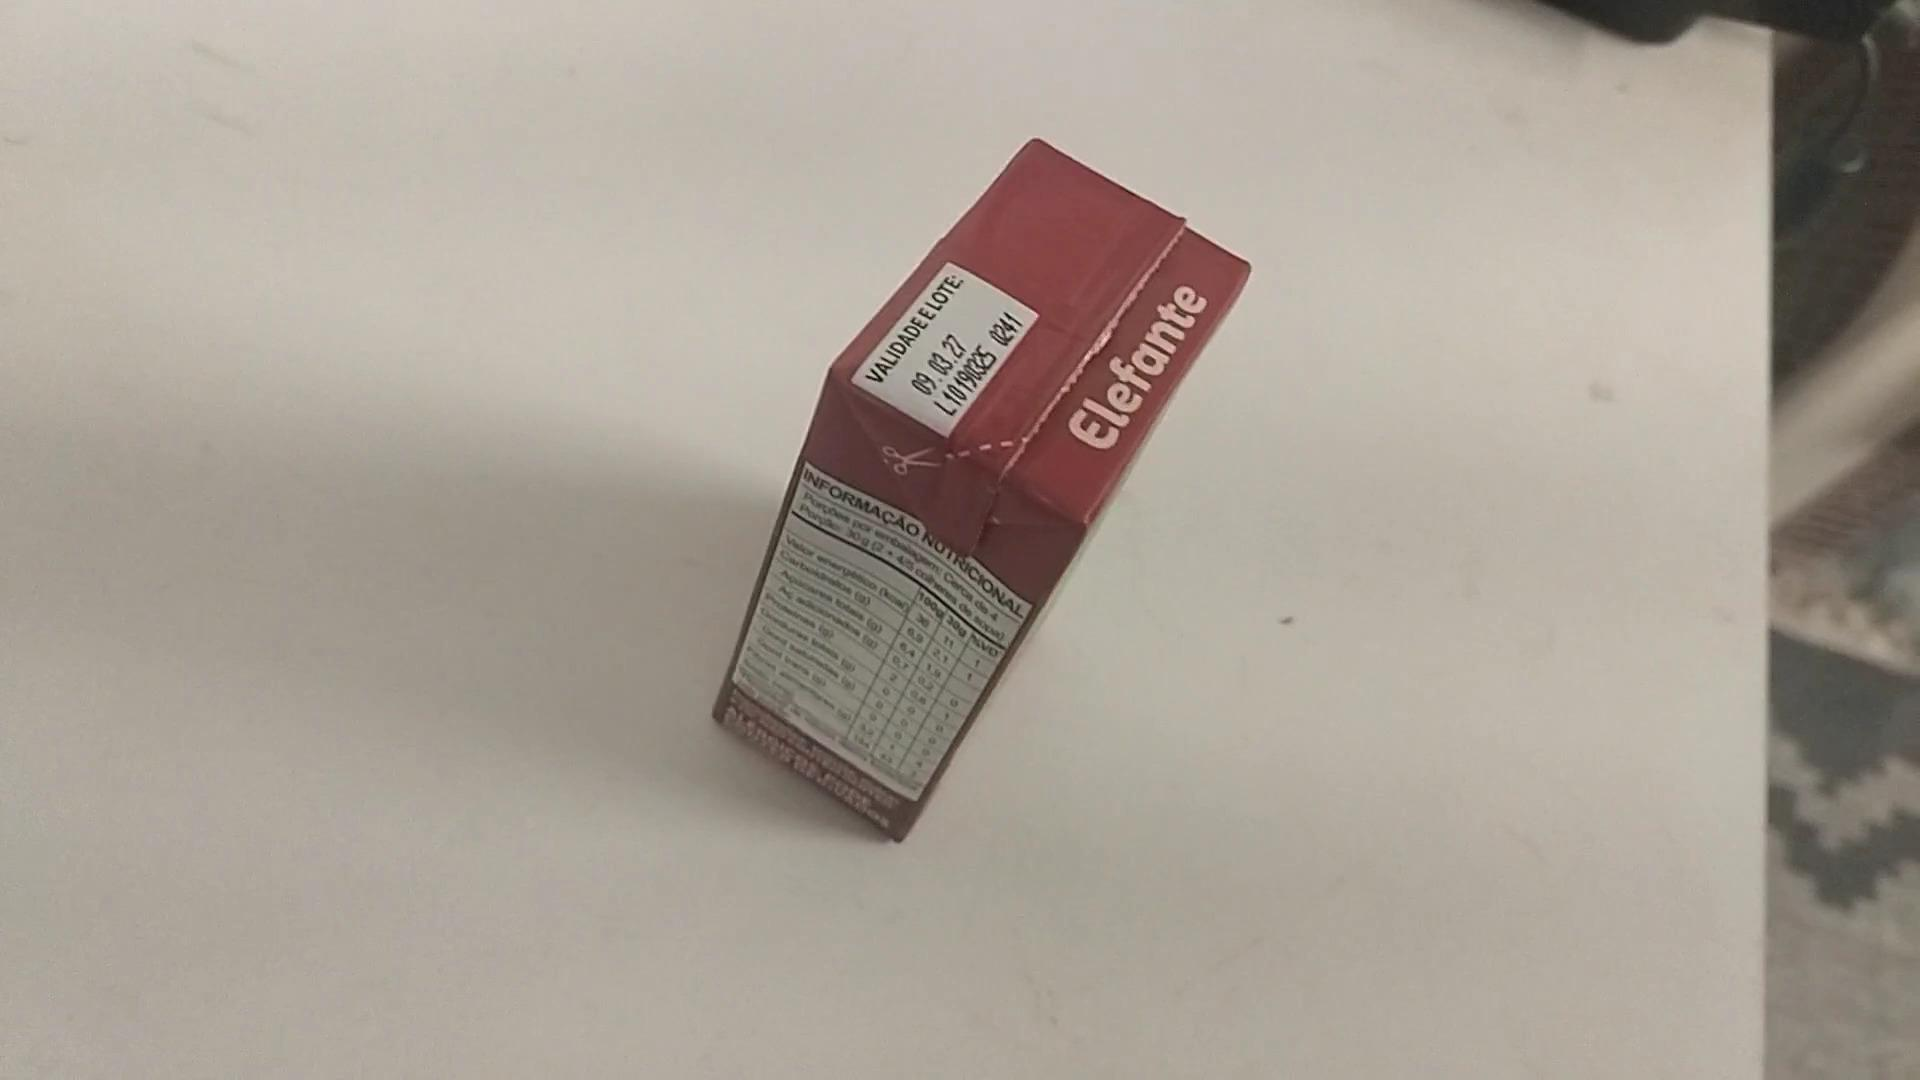tomate: (662, 80, 1311, 887)
